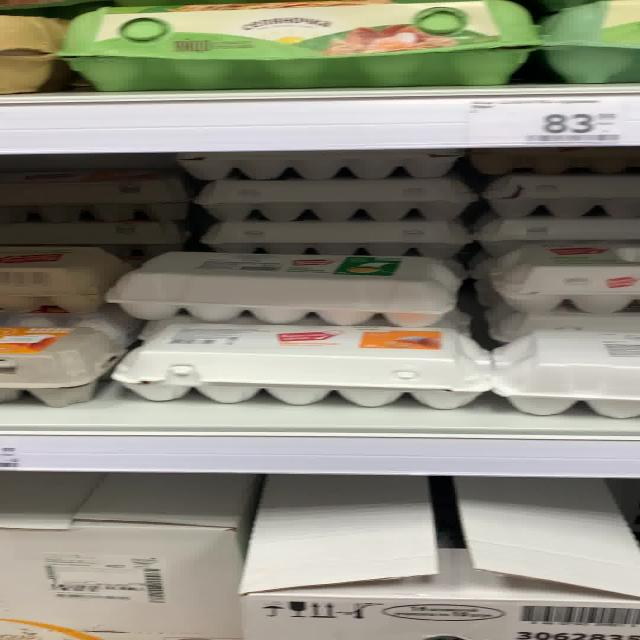egg box: (54, 0, 540, 92), (113, 320, 490, 409), (104, 253, 456, 323)
